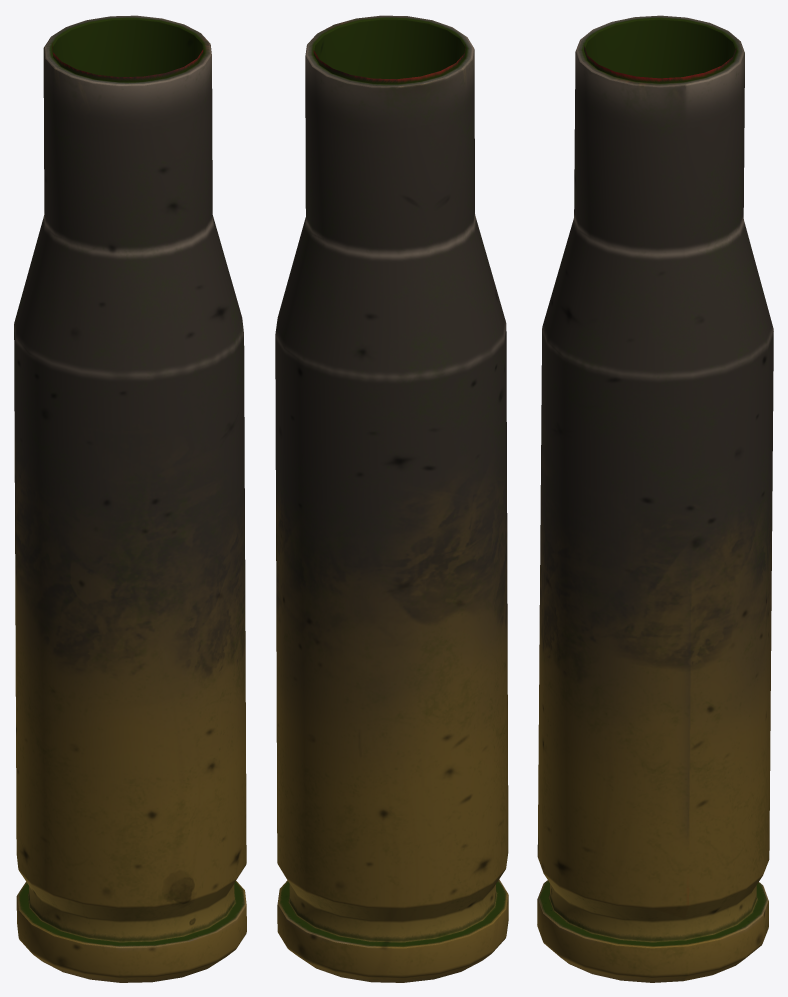
Rendered from 5.56x45mm M855(used).glb.
3 views of the same model, side by side, from view 1: azimuth 30°, elevation 25°; view 2: azimuth 150°, elevation 25°; view 3: azimuth 270°, elevation 25° (orthographic).
Visible parts, largest first — view 1: Object_4; view 2: Object_4; view 3: Object_4.
Part boxes in pixels (left/top/right/bottom): Object_4: left=14, top=15, right=246, bottom=982; Object_4: left=275, top=15, right=508, bottom=982; Object_4: left=537, top=15, right=773, bottom=982.
Bounding box in the file's own units: 0.3303 × 1.41 × 0.3369.
Materials: 1 (1 with a texture image).
